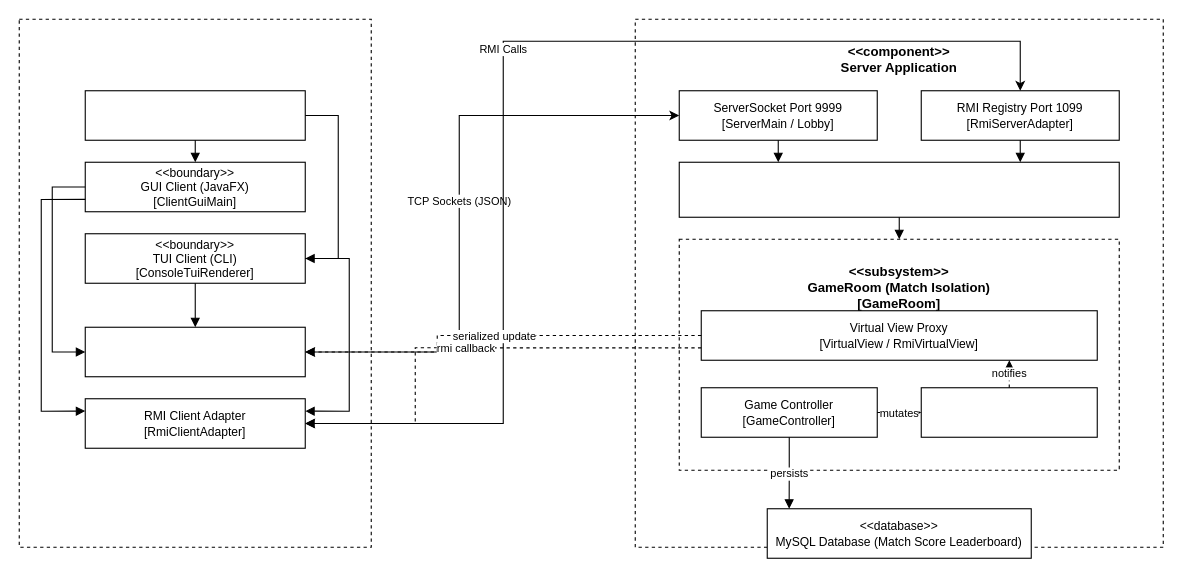
The diagram is 1183 pixels wide and 578 high, and some of its shapes have lost their labels. The shapes that lost their labels are listed below. From the top down, each one's box as (x1, y1, x2, y2) in pixels, then its label:
(84, 90, 305, 140): Client Launcher [Launcher / ClientMain]
(678, 161, 1119, 217): Lobby Router & Registries [Lobby]
(18, 18, 371, 547): <<component>> Client Application
(84, 326, 305, 377): Socket Client Thread [ClientThread]
(920, 387, 1097, 437): Game Model [Game]
